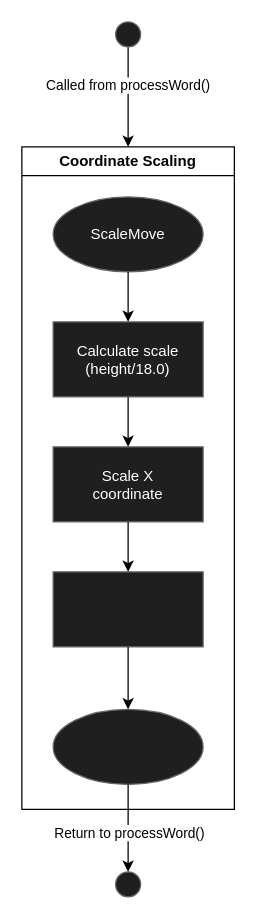
The diagram is 256 pixels wide and 919 high, and some of its shapes have lost their labels. The shapes that lost their labels are listed below. From the top down, each one's centre as x and y in pixels, then its label:
At (x=127, y=609): "Scale Y coordinate".
At (x=127, y=746): "return".
